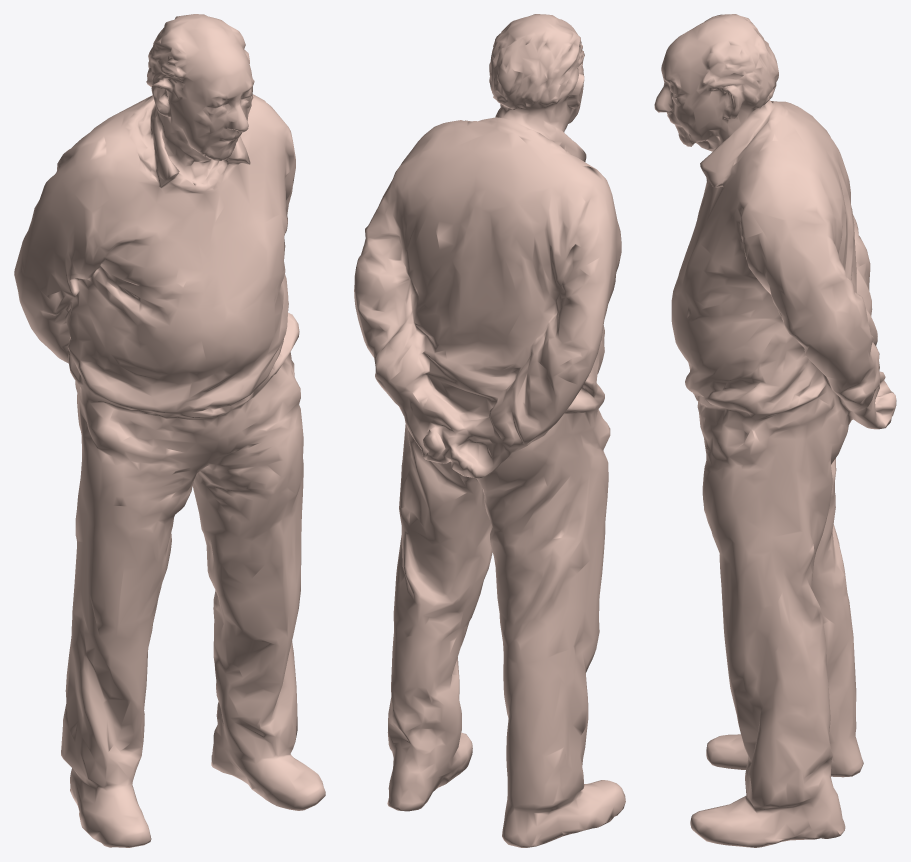
3 views of the same model, side by side, from view 1: azimuth 30°, elevation 25°; view 2: azimuth 150°, elevation 25°; view 3: azimuth 270°, elevation 25° (orthographic). The views are drawn at different scales.
Parts seen in each view (by area): view 1: 静止人014ok; view 2: 静止人014ok; view 3: 静止人014ok.
Part boxes in pixels (bbox=[...]): 静止人014ok: bbox=[14, 14, 325, 847]; 静止人014ok: bbox=[354, 14, 625, 847]; 静止人014ok: bbox=[654, 14, 896, 847].
Bounding box in the file's own units: 56.73 × 172 × 48.54.
